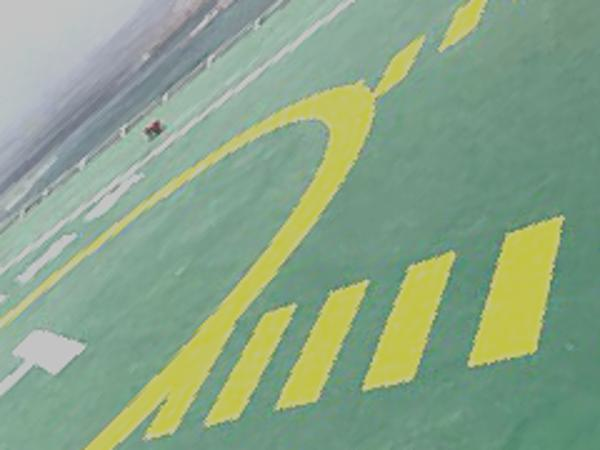Apron: (2, 81, 379, 450)
